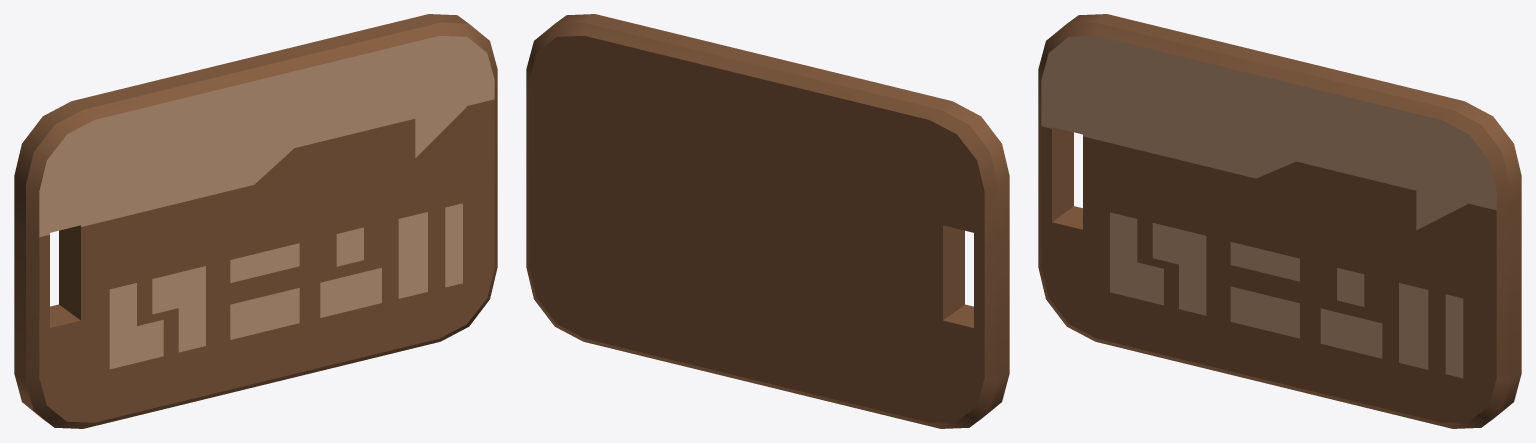
The model's file is quaternius-ultimate-space-pack-pickup-key-card-transformed.glb.
3 views of the same model, side by side, from view 1: azimuth 30°, elevation 25°; view 2: azimuth 150°, elevation 25°; view 3: azimuth 330°, elevation 25° (orthographic).
Parts seen in each view (by area): view 1: Pickup_KeyCard; view 2: Pickup_KeyCard; view 3: Pickup_KeyCard.
Boxes of the visible parts, x1=… form: Pickup_KeyCard: x1=14, y1=14, x2=497, y2=428; Pickup_KeyCard: x1=526, y1=14, x2=1009, y2=428; Pickup_KeyCard: x1=1038, y1=14, x2=1521, y2=428.
Size of the model in its own units: 1.04 by 0.6741 by 0.0876.
Materials: 1 (1 with a texture image).
